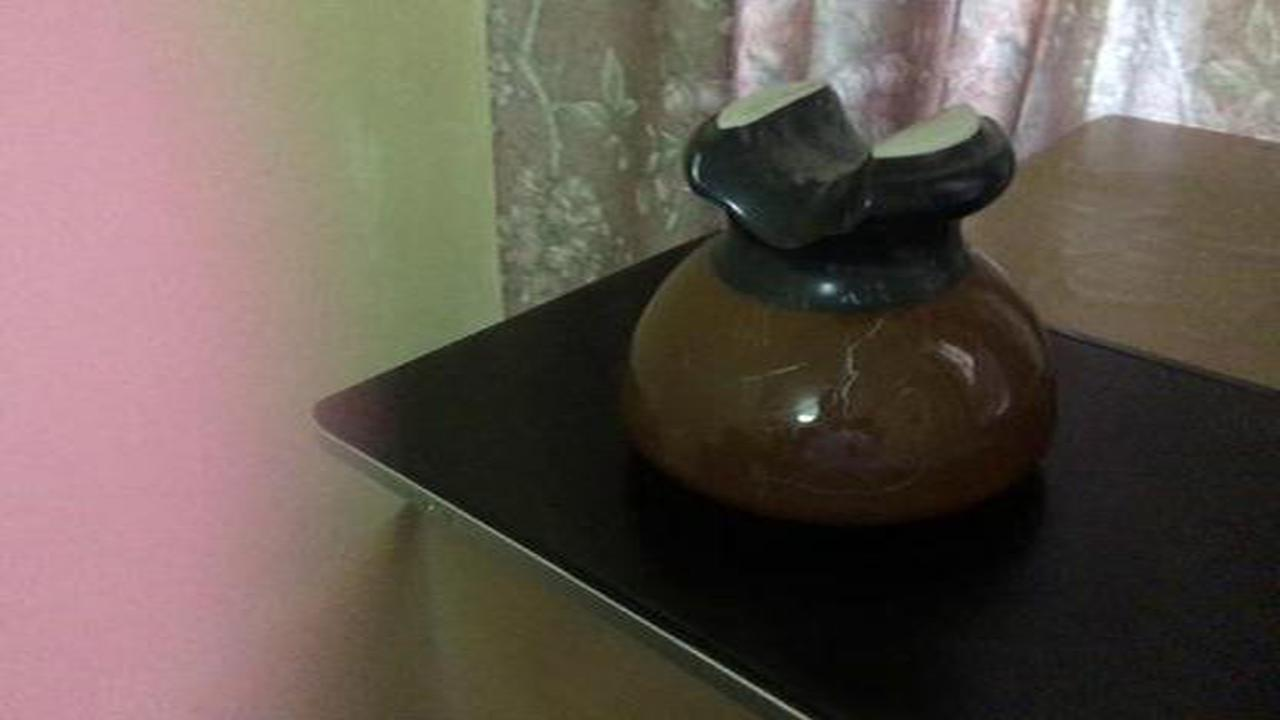insulator_pin: (607, 69, 1081, 551)
